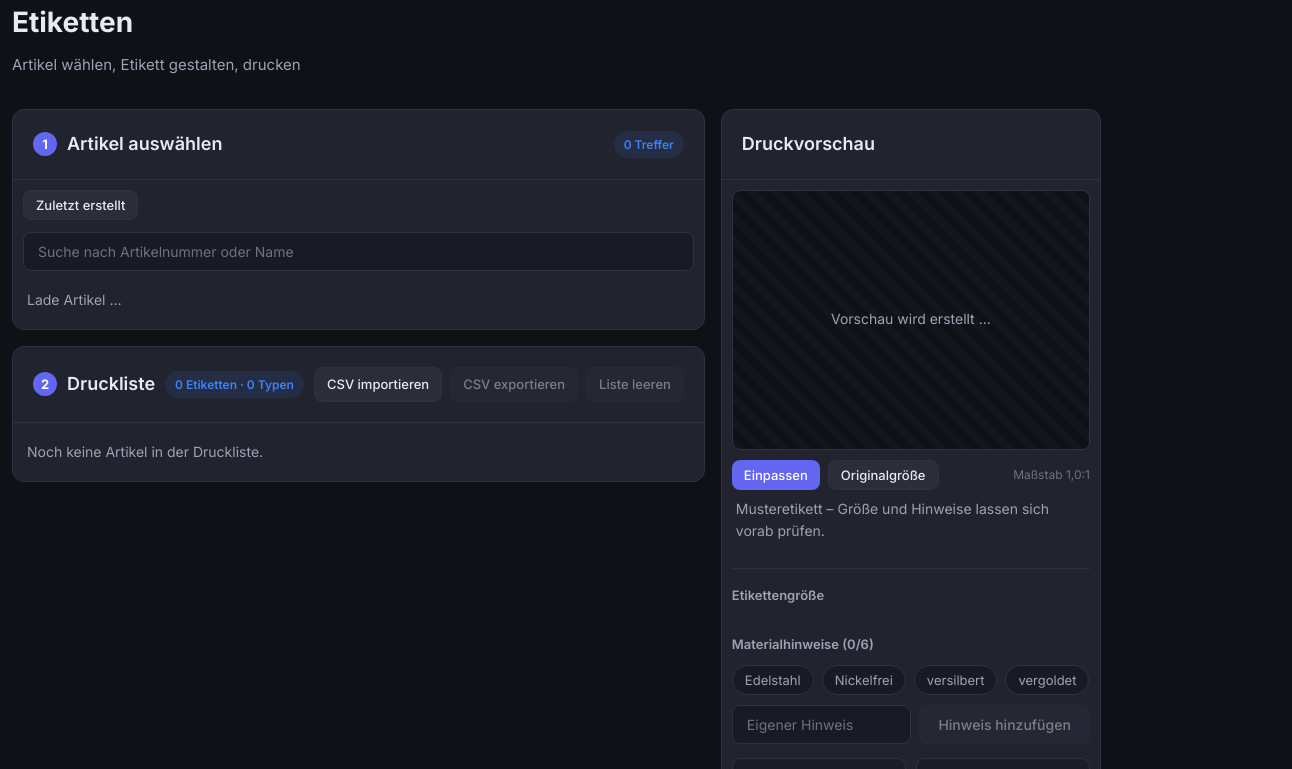
Test: Etiketten › Zuletzt erstellt › zeigt einen Hinweis, wenn keine verfügbaren Stücke vorhanden sind
This screenshot has width=1292, height=769.
Click the button "Zuletzt erstellt" at (81, 205), box [23, 190, 138, 220]
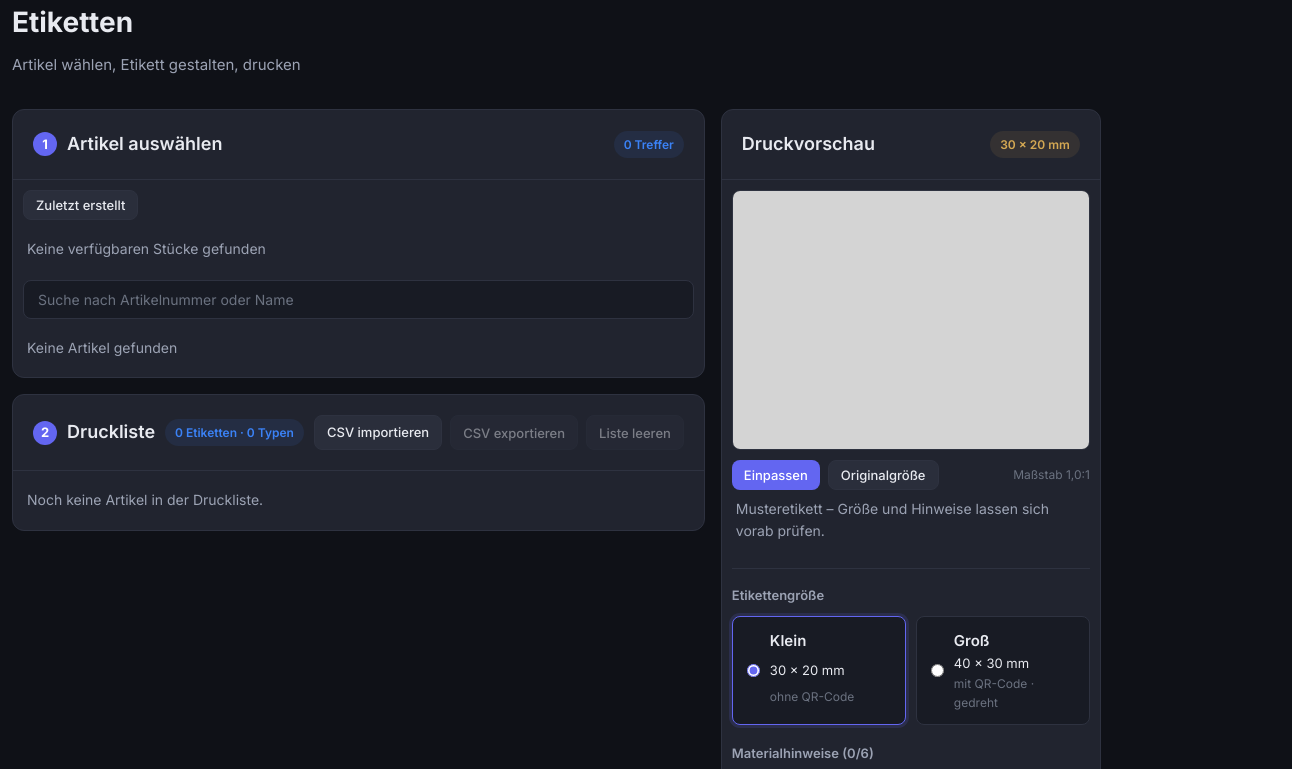
Check: the text "Keine verfügbaren Stücke gefunden" is shown, box [27, 240, 266, 257]
